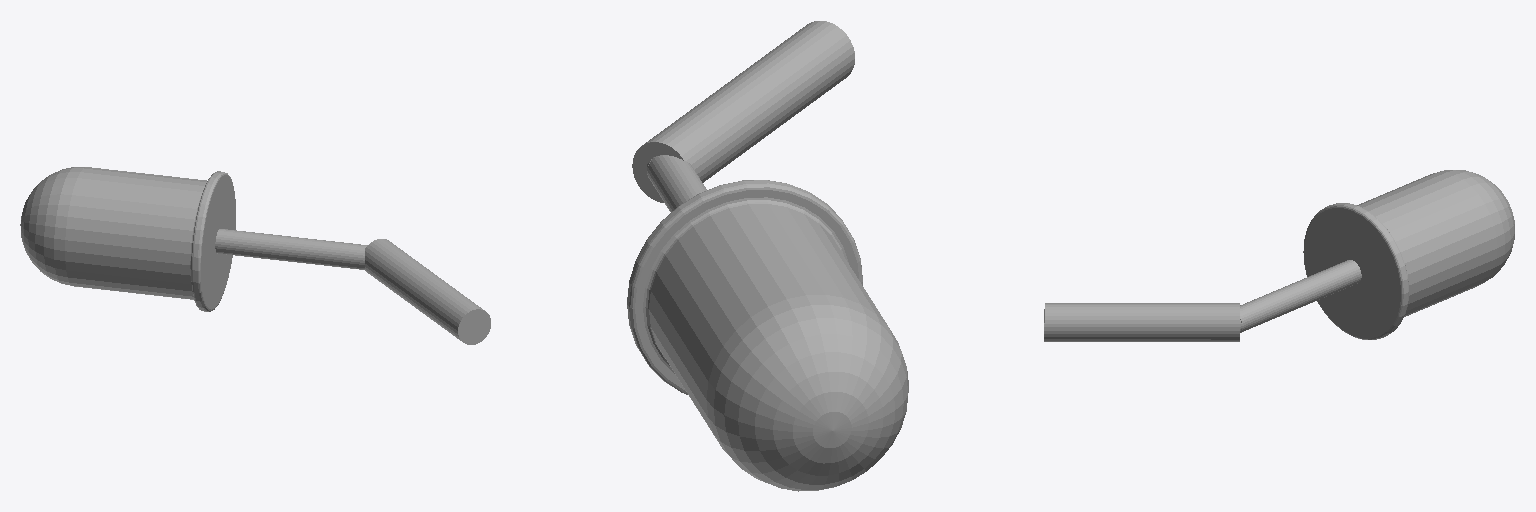
robot.urdf — ur5:
<?xml version="1.0" encoding="utf-8"?>
<!-- =================================================================================== -->
<!-- |    This document was autogenerated by xacro from ur5.xacro                      | -->
<!-- |    EDITING THIS FILE BY HAND IS NOT RECOMMENDED                                 | -->
<!-- =================================================================================== -->
<robot name="ur5">
  <!--
    Base UR robot series xacro macro.

    NOTE: this is NOT a URDF. It cannot directly be loaded by consumers
    expecting a flattened '.urdf' file. See the top-level '.xacro' for that
    (but note: that .xacro must still be processed by the xacro command).

    For use in '.launch' files: use one of the 'load_urX.launch' convenience
    launch files.

    This file models the base kinematic chain of a UR robot, which then gets
    parameterised by various configuration files to convert it into a UR3(e),
    UR5(e), UR10(e) or UR16e.

    NOTE: the default kinematic parameters (ie: link lengths, frame locations,
    offets, etc) do not correspond to any particular robot. They are defaults
    only. There WILL be non-zero offsets between the Forward Kinematics results
    in TF (ie: robot_state_publisher) and the values reported by the Teach
    Pendant.

    For accurate (and robot-specific) transforms, the 'kinematics_parameters_file'
    parameter MUST point to a .yaml file containing the appropriate values for
    the targetted robot.

    If using the UniversalRobots/Universal_Robots_ROS_Driver, follow the steps
    described in the readme of that repository to extract the kinematic
    calibration from the controller and generate the required .yaml file.

    Main author of the migration to yaml configs: [author].

    Contributors to previous versions (in no particular order):

     - [author]
     - [author]
     - [author]
     - [author]
     - [author]
     - [author]
     - [author]
     - [author]
     - [author]
     - [author]
     - [author]
     - [author]
     - [author]
     - [author]
     - [author]
     - [author]
     - [author]
  -->
  <!--
    NOTE: the macro defined in this file is NOT part of the public API of this
          package. Users CANNOT rely on this file being available, or stored in
          this location. Nor can they rely on the existence of the macro.
  -->
  <transmission name="shoulder_pan_trans">
    <type>transmission_interface/SimpleTransmission</type>
    <joint name="shoulder_pan_joint">
      <hardwareInterface>hardware_interface/PositionJointInterface</hardwareInterface>
    </joint>
    <actuator name="shoulder_pan_motor">
      <mechanicalReduction>1</mechanicalReduction>
    </actuator>
  </transmission>
  <transmission name="shoulder_lift_trans">
    <type>transmission_interface/SimpleTransmission</type>
    <joint name="shoulder_lift_joint">
      <hardwareInterface>hardware_interface/PositionJointInterface</hardwareInterface>
    </joint>
    <actuator name="shoulder_lift_motor">
      <mechanicalReduction>1</mechanicalReduction>
    </actuator>
  </transmission>
  <transmission name="elbow_trans">
    <type>transmission_interface/SimpleTransmission</type>
    <joint name="elbow_joint">
      <hardwareInterface>hardware_interface/PositionJointInterface</hardwareInterface>
    </joint>
    <actuator name="elbow_motor">
      <mechanicalReduction>1</mechanicalReduction>
    </actuator>
  </transmission>
  <transmission name="wrist_1_trans">
    <type>transmission_interface/SimpleTransmission</type>
    <joint name="wrist_1_joint">
      <hardwareInterface>hardware_interface/PositionJointInterface</hardwareInterface>
    </joint>
    <actuator name="wrist_1_motor">
      <mechanicalReduction>1</mechanicalReduction>
    </actuator>
  </transmission>
  <transmission name="wrist_2_trans">
    <type>transmission_interface/SimpleTransmission</type>
    <joint name="wrist_2_joint">
      <hardwareInterface>hardware_interface/PositionJointInterface</hardwareInterface>
    </joint>
    <actuator name="wrist_2_motor">
      <mechanicalReduction>1</mechanicalReduction>
    </actuator>
  </transmission>
  <transmission name="wrist_3_trans">
    <type>transmission_interface/SimpleTransmission</type>
    <joint name="wrist_3_joint">
      <hardwareInterface>hardware_interface/PositionJointInterface</hardwareInterface>
    </joint>
    <actuator name="wrist_3_motor">
      <mechanicalReduction>1</mechanicalReduction>
    </actuator>
  </transmission>
  <!-- links: main serial chain -->
  <link name="base_link"/>
  <link name="base_link_inertia">
    <visual>
      <origin rpy="0 0 3.14159265359" xyz="0 0 0"/>
      <geometry>
        <mesh filename="package://ur5/meshes/visual/base.dae"/>
      </geometry>
      <material name="LightGrey">
        <color rgba="0.7 0.7 0.7 1.0"/>
      </material>
    </visual>
    <collision>
      <origin rpy="0 0 3.14159265359" xyz="0 0 0"/>
      <geometry>
        <mesh filename="package://ur5/meshes/collision/base.stl"/>
      </geometry>
    </collision>
    <inertial>
      <mass value="4.0"/>
      <origin rpy="0 0 0" xyz="0 0 0"/>
      <inertia ixx="0.00443333156" ixy="0.0" ixz="0.0" iyy="0.00443333156" iyz="0.0" izz="0.0072"/>
    </inertial>
  </link>
  <link name="shoulder_link">
    <visual>
      <origin rpy="0 0 3.14159265359" xyz="0 0 0"/>
      <geometry>
        <mesh filename="package://ur5/meshes/visual/shoulder.dae"/>
      </geometry>
      <material name="LightGrey">
        <color rgba="0.7 0.7 0.7 1.0"/>
      </material>
    </visual>
    <collision>
      <origin rpy="0 0 3.14159265359" xyz="0 0 0"/>
      <geometry>
        <mesh filename="package://ur5/meshes/collision/shoulder.stl"/>
      </geometry>
    </collision>
    <inertial>
      <mass value="3.7"/>
      <origin rpy="0 0 0" xyz="0 0 0"/>
      <inertia ixx="0.0149723523444" ixy="0.0" ixz="0.0" iyy="0.0149723523444" iyz="0.0" izz="0.01040625"/>
    </inertial>
  </link>
  <link name="upper_arm_link">
    <visual>
      <origin rpy="1.57079632679 0 -1.57079632679" xyz="0 0 0.13585"/>
      <geometry>
        <mesh filename="package://ur5/meshes/visual/upperarm.dae"/>
      </geometry>
      <material name="LightGrey">
        <color rgba="0.7 0.7 0.7 1.0"/>
      </material>
    </visual>
    <collision>
      <origin rpy="1.57079632679 0 -1.57079632679" xyz="0 0 0.13585"/>
      <geometry>
        <mesh filename="package://ur5/meshes/collision/upperarm.stl"/>
      </geometry>
    </collision>
    <inertial>
      <mass value="8.393"/>
      <origin rpy="0 1.57079632679 0" xyz="-0.2125 0.0 0.136"/>
      <inertia ixx="0.133885781862" ixy="0.0" ixz="0.0" iyy="0.133885781862" iyz="0.0" izz="0.0151074"/>
    </inertial>
  </link>
  <link name="forearm_link">
    <visual>
      <origin rpy="1.57079632679 0 -1.57079632679" xyz="0 0 0.0165"/>
      <geometry>
        <mesh filename="package://ur5/meshes/visual/forearm.dae"/>
      </geometry>
      <material name="LightGrey">
        <color rgba="0.7 0.7 0.7 1.0"/>
      </material>
    </visual>
    <collision>
      <origin rpy="1.57079632679 0 -1.57079632679" xyz="0 0 0.0165"/>
      <geometry>
        <mesh filename="package://ur5/meshes/collision/forearm.stl"/>
      </geometry>
    </collision>
    <inertial>
      <mass value="2.275"/>
      <origin rpy="0 1.57079632679 0" xyz="-0.196125 0.0 0.0165"/>
      <inertia ixx="0.0312167910289" ixy="0.0" ixz="0.0" iyy="0.0312167910289" iyz="0.0" izz="0.004095"/>
    </inertial>
  </link>
  <link name="wrist_1_link">
    <visual>
      <!-- TODO: Move this to a parameter -->
      <origin rpy="1.57079632679 0 0" xyz="0 0 -0.093"/>
      <geometry>
        <mesh filename="package://ur5/meshes/visual/wrist1.dae"/>
      </geometry>
      <material name="LightGrey">
        <color rgba="0.7 0.7 0.7 1.0"/>
      </material>
    </visual>
    <collision>
      <origin rpy="1.57079632679 0 0" xyz="0 0 -0.093"/>
      <geometry>
        <mesh filename="package://ur5/meshes/collision/wrist1.stl"/>
      </geometry>
    </collision>
    <inertial>
      <mass value="1.219"/>
      <origin rpy="0 0 0" xyz="0 0 0"/>
      <inertia ixx="0.00201388877778" ixy="0.0" ixz="0.0" iyy="0.00201388877778" iyz="0.0" izz="0.0021942"/>
    </inertial>
  </link>
  <link name="wrist_2_link">
    <visual>
      <origin rpy="0 0 0" xyz="0 0 -0.095"/>
      <geometry>
        <mesh filename="package://ur5/meshes/visual/wrist2.dae"/>
      </geometry>
      <material name="LightGrey">
        <color rgba="0.7 0.7 0.7 1.0"/>
      </material>
    </visual>
    <collision>
      <origin rpy="0 0 0" xyz="0 0 -0.095"/>
      <geometry>
        <mesh filename="package://ur5/meshes/collision/wrist2.stl"/>
      </geometry>
    </collision>
    <inertial>
      <mass value="1.219"/>
      <origin rpy="0 0 0" xyz="0 0 0"/>
      <inertia ixx="0.00183103885092" ixy="0.0" ixz="0.0" iyy="0.00183103885092" iyz="0.0" izz="0.0021942"/>
    </inertial>
  </link>
  <link name="wrist_3_link">
    <visual>
      <origin rpy="1.57079632679 0 0" xyz="0 0 -0.0818"/>
      <geometry>
        <mesh filename="package://ur5/meshes/visual/wrist3.dae"/>
      </geometry>
      <material name="LightGrey">
        <color rgba="0.7 0.7 0.7 1.0"/>
      </material>
    </visual>
    <collision>
      <origin rpy="1.57079632679 0 0" xyz="0 0 -0.0818"/>
      <geometry>
        <mesh filename="package://ur5/meshes/collision/wrist3.stl"/>
      </geometry>
    </collision>
    <inertial>
      <mass value="0.1879"/>
      <origin rpy="0 0 0" xyz="0.0 0.0 -0.01525"/>
      <inertia ixx="8.06247260834e-05" ixy="0.0" ixz="0.0" iyy="8.06247260834e-05" iyz="0.0" izz="0.0001321171875"/>
    </inertial>
  </link>
  <!-- joints: main serial chain -->
  <joint name="base_link-base_link_inertia" type="fixed">
    <parent link="base_link"/>
    <child link="base_link_inertia"/>
    <!-- 'base_link' is REP-103 aligned (so X+ forward), while the internal
           frames of the robot/controller have X+ pointing backwards.
           Use the joint between 'base_link' and 'base_link_inertia' (a dummy
           link/frame) to introduce the necessary rotation over Z (of pi rad).
      -->
    <origin rpy="0 0 3.14159265359" xyz="0 0 0"/>
  </joint>
  <joint name="shoulder_pan_joint" type="revolute">
    <parent link="base_link_inertia"/>
    <child link="shoulder_link"/>
    <origin rpy="0 0 0" xyz="0 0 0.0894297563087571"/>
    <axis xyz="0 0 1"/>
    <limit effort="150.0" lower="-6.28318530718" upper="6.28318530718" velocity="3.14159265359"/>
    <dynamics damping="0" friction="0"/>
  </joint>
  <joint name="shoulder_lift_joint" type="revolute">
    <parent link="shoulder_link"/>
    <child link="upper_arm_link"/>
    <origin rpy="1.57114841778325 0 0" xyz="0.0001345759894064394 0 0"/>
    <axis xyz="0 0 1"/>
    <limit effort="150.0" lower="-6.28318530718" upper="6.28318530718" velocity="3.14159265359"/>
    <dynamics damping="0" friction="0"/>
  </joint>
  <joint name="elbow_joint" type="revolute">
    <parent link="upper_arm_link"/>
    <child link="forearm_link"/>
    <origin rpy="0 0 0" xyz="-0.4251354753856735 0 0"/>
    <axis xyz="0 0 1"/>
    <limit effort="150.0" lower="-3.14159265359" upper="3.14159265359" velocity="3.14159265359"/>
    <dynamics damping="0" friction="0"/>
  </joint>
  <joint name="wrist_1_joint" type="revolute">
    <parent link="forearm_link"/>
    <child link="wrist_1_link"/>
    <origin rpy="0 0 0" xyz="-0.3920852041618563 0.00156975446298503 0.1104928652798279"/>
    <axis xyz="0 0 1"/>
    <limit effort="28.0" lower="-6.28318530718" upper="6.28318530718" velocity="3.14159265359"/>
    <dynamics damping="0" friction="0"/>
  </joint>
  <joint name="wrist_2_joint" type="revolute">
    <parent link="wrist_1_link"/>
    <child link="wrist_2_link"/>
    <origin rpy="1.570239865752715 0 0" xyz="0 -0.09483720192826969 0.0"/>
    <axis xyz="0 0 1"/>
    <limit effort="28.0" lower="-6.28318530718" upper="6.28318530718" velocity="3.14159265359"/>
    <dynamics damping="0" friction="0"/>
  </joint>
  <joint name="wrist_3_joint" type="revolute">
    <parent link="wrist_2_link"/>
    <child link="wrist_3_link"/>
    <origin rpy="1.571751493258682 3.141592653589793 -3.141559191090251" xyz="0 0.0824592599587561 0.0"/>
    <axis xyz="0 0 1"/>
    <limit effort="28.0" lower="-6.28318530718" upper="6.28318530718" velocity="3.14159265359"/>
    <dynamics damping="0" friction="0"/>
  </joint>
  <!-- ROS-Industrial 'base' frame: base_link to UR 'Base' Coordinates transform -->
  <link name="base"/>
  <joint name="base_link-base_fixed_joint" type="fixed">
    <!-- Note the rotation over Z of pi radians: as base_link is REP-103
           aligned (ie: has X+ forward, Y+ left and Z+ up), this is needed
           to correctly align 'base' with the 'Base' coordinate system of
           the UR controller.
      -->
    <origin rpy="0 0 3.14159265359" xyz="0 0 0"/>
    <parent link="base_link"/>
    <child link="base"/>
  </joint>
  <!-- ROS-Industrial 'flange' frame: attachment point for EEF models -->
  <link name="flange"/>
  <joint name="wrist_3-flange" type="fixed">
    <parent link="wrist_3_link"/>
    <child link="flange"/>
    <origin rpy="0 -1.57079632679 -1.57079632679" xyz="0 0 0"/>
  </joint>
  <!-- ROS-Industrial 'tool0' frame: all-zeros tool frame -->
  <link name="tool0"/>
  <joint name="flange-tool0" type="fixed">
    <!-- default toolframe: X+ left, Y+ up, Z+ front -->
    <origin rpy="1.57079632679 0 1.57079632679" xyz="0 0 0"/>
    <parent link="flange"/>
    <child link="tool0"/>
  </joint>
  <link name="tool_tip">
    <visual>
      <origin rpy="0 0 -1.570796325" xyz="0 0 0"/>
      <geometry>
        <mesh filename="package://ur5/meshes/visual/brush.dae"/>
      </geometry>
      <material name="LightGrey">
        <color rgba="0.7 0.7 0.7 1.0"/>
      </material>
    </visual>
  </link>
  <joint name="tool0-tool_tip" type="fixed">
    <origin rpy="0 0.78539816339 0" xyz="0.118 0 0.2"/>
    <parent link="tool0"/>
    <child link="tool_tip"/>
  </joint>
</robot>

--- Render facts (derived) ---
The picture shows the robot from 3 angles, left to right: view 1: azimuth 30°, elevation 25°; view 2: azimuth 150°, elevation 25°; view 3: azimuth 270°, elevation 25°; orthographic projection.
Robot: ur5 — 12 links, 11 joints (6 revolute, 5 fixed); root link base_link; default pose: every joint at zero.
Links seen in each view (by area): view 1: tool_tip; view 2: tool_tip; view 3: tool_tip.
Boxes of the visible links, x1,y1,x2,y2 form: tool_tip: (20,167,490,344); tool_tip: (627,21,908,491); tool_tip: (1044,170,1514,341).
Size in the robot's own frame: 0.1553 by 0.2413 by 0.0732 metres.
Meshes: 8 distinct files referenced, 1 mesh visuals loaded (1 Collada DAE); not drawn: 7 (reference not matched to a file when rendering).